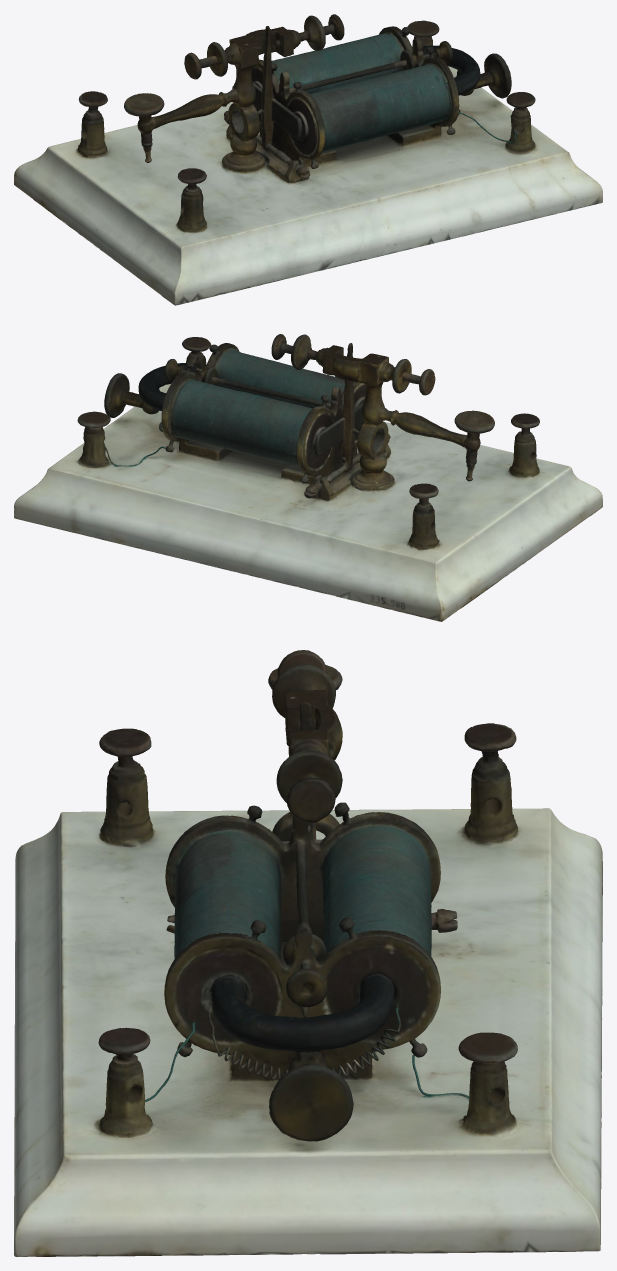
The model's file is chester-relay-44730b83c7.glb.
3 renders of one model, top to bottom at view 1: azimuth 30°, elevation 25°; view 2: azimuth 150°, elevation 25°; view 3: azimuth 270°, elevation 25°, orthographic. The views are drawn at different scales.
Size of the model in its own units: 0.2114 by 0.0853 by 0.1381.
1 material, 1 textured.
